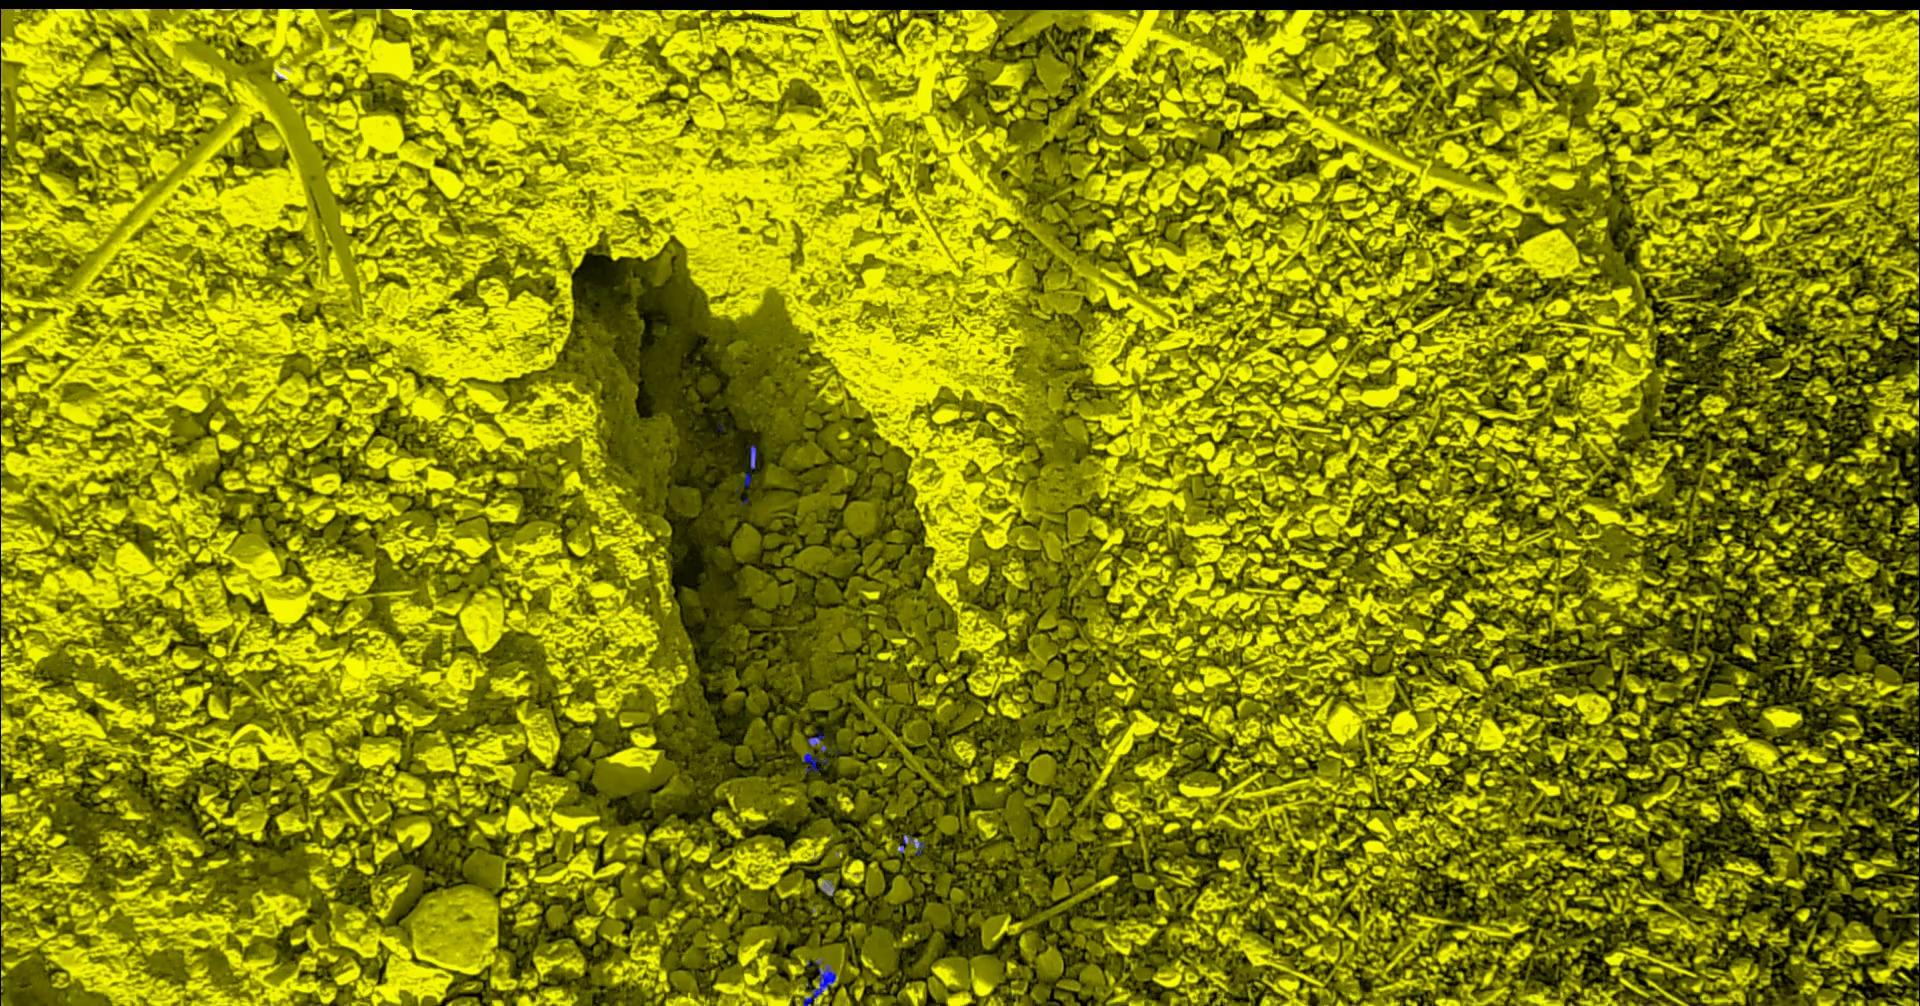ant: (803, 960, 836, 1005), (897, 833, 924, 855), (803, 751, 827, 774), (743, 445, 756, 486), (808, 729, 823, 746)
